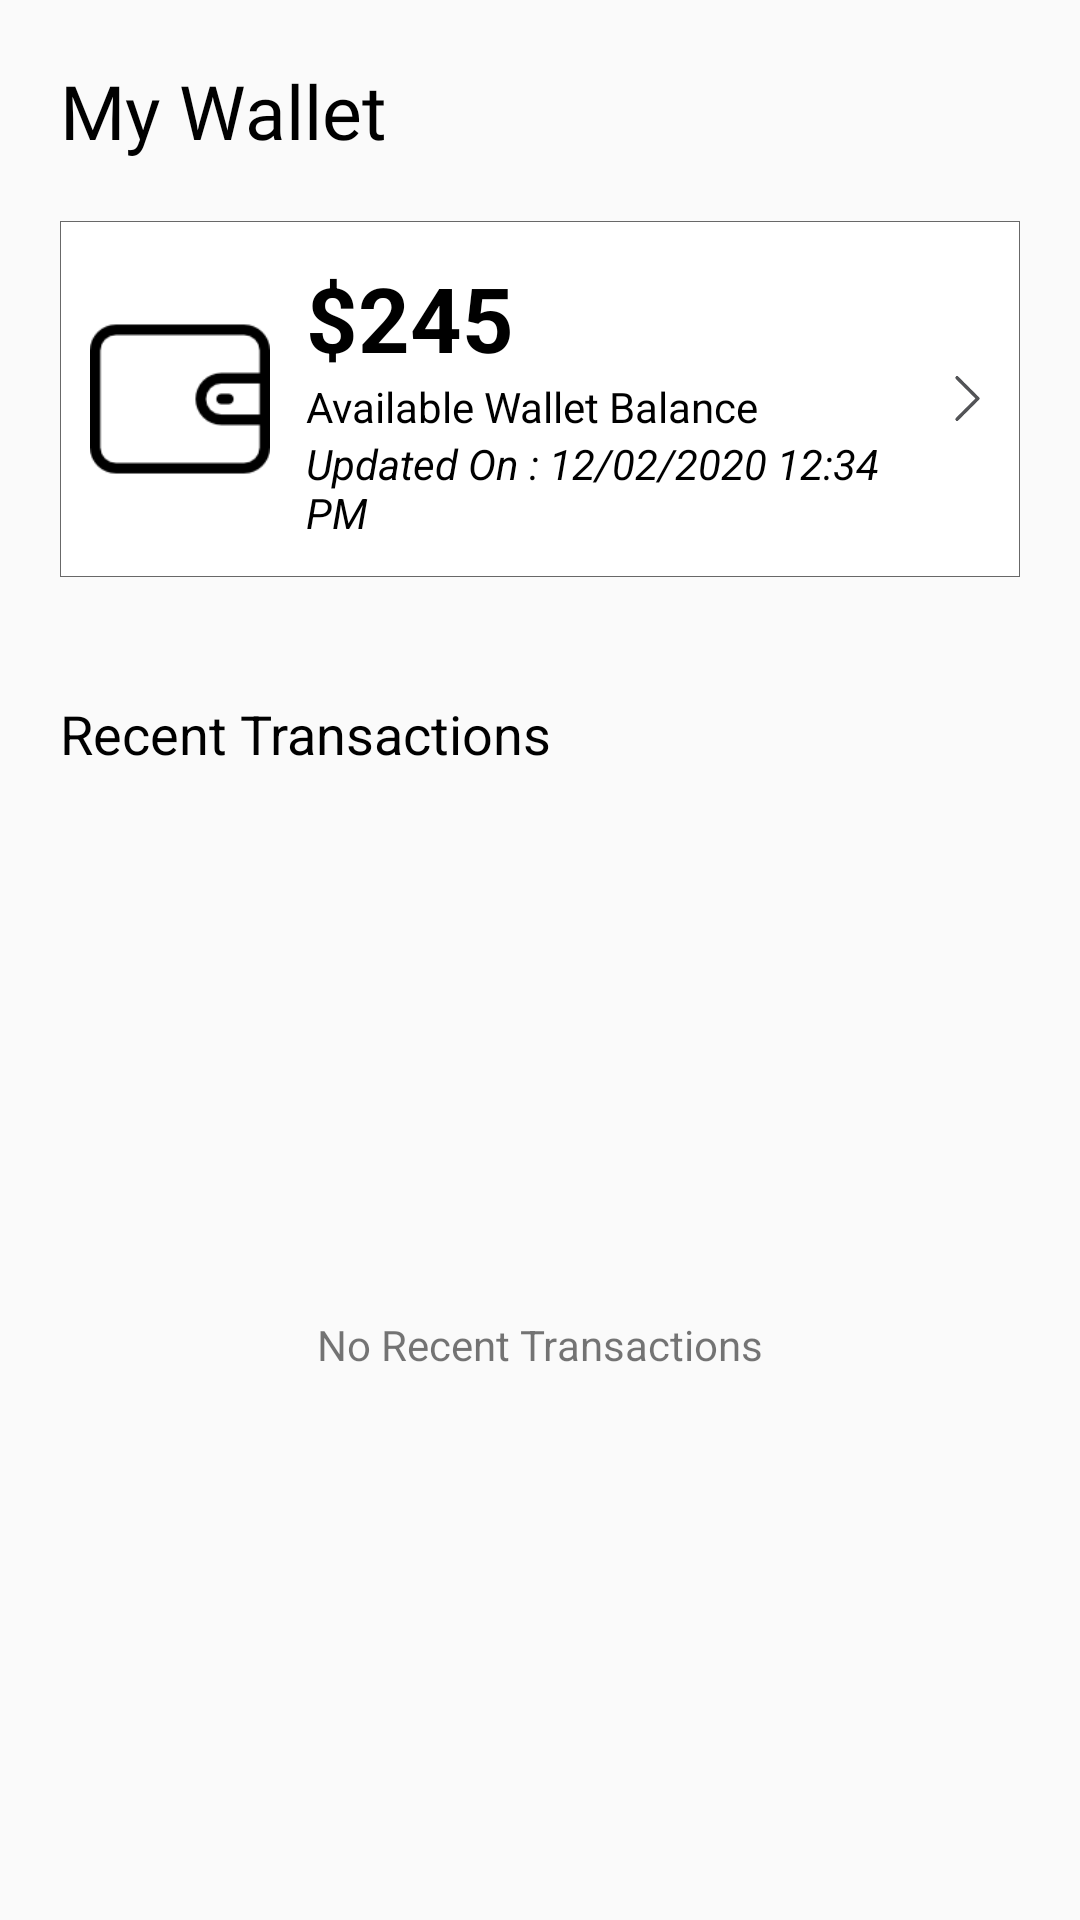

Where icons sit on this 1080px x 1920px app screen, as (x1, y1, x2, y2):
next: (955, 376, 980, 421)
